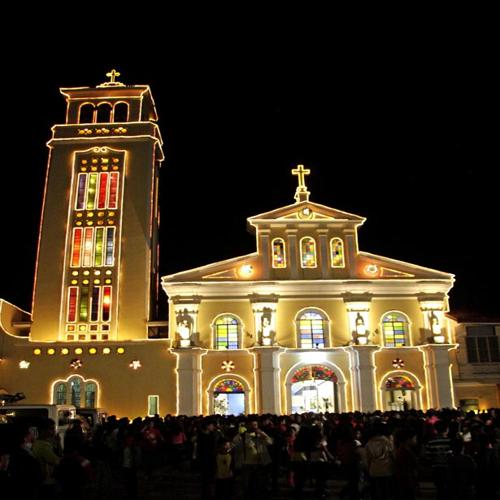Manaoag Church: (36, 67, 458, 416)
